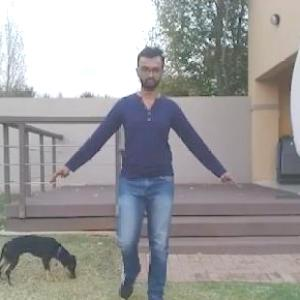land: (72, 60, 224, 299)
